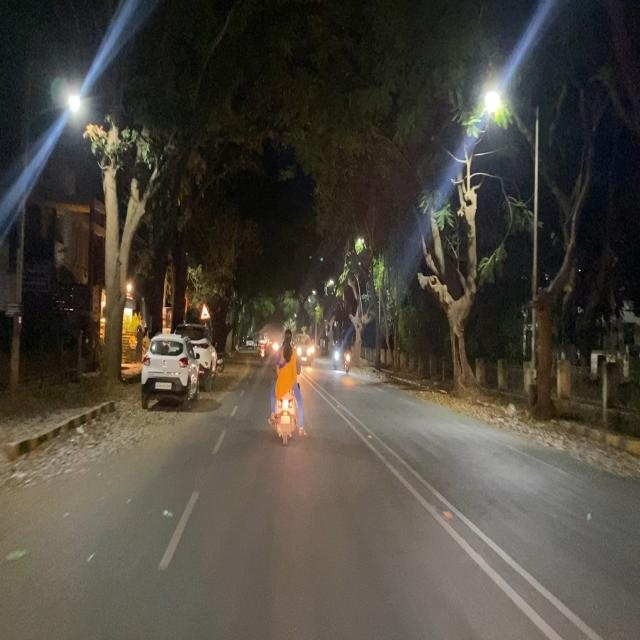bien_nguy_hiem: (200, 299, 210, 321)
